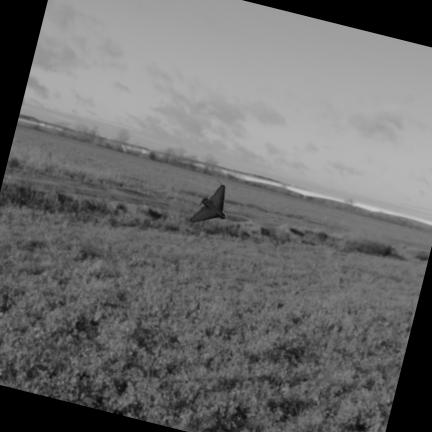Shahed: (191, 184, 224, 220)
